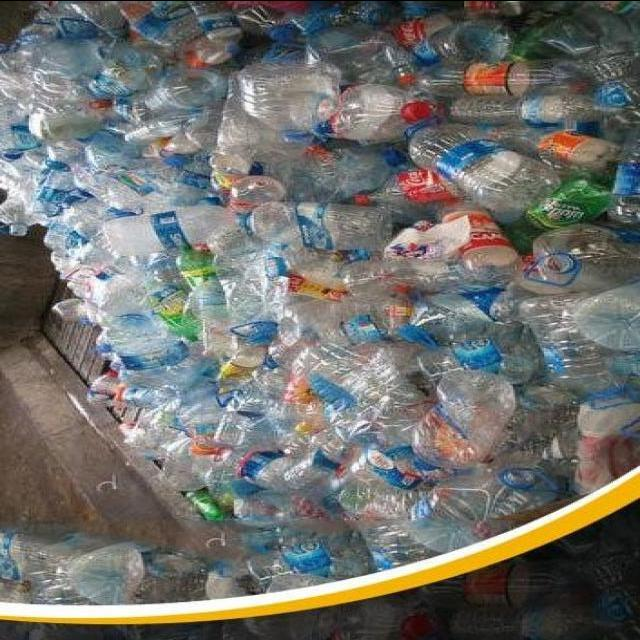寶特瓶: (398, 123, 545, 212), (520, 292, 636, 397), (411, 369, 518, 470), (342, 250, 522, 300), (236, 60, 335, 141), (397, 57, 586, 99), (474, 120, 618, 172), (403, 277, 513, 345), (415, 562, 586, 605), (513, 173, 620, 240), (102, 203, 238, 255), (278, 295, 406, 350), (240, 202, 393, 248), (531, 225, 640, 288), (246, 534, 376, 586), (412, 468, 536, 522), (439, 201, 522, 279), (326, 82, 429, 139), (214, 246, 270, 346), (576, 397, 636, 490), (452, 92, 626, 124), (541, 0, 640, 56), (322, 588, 432, 638), (92, 151, 190, 204), (72, 542, 148, 606), (579, 277, 639, 358), (304, 144, 398, 194), (215, 441, 308, 489), (352, 167, 455, 210), (146, 281, 216, 344), (1, 529, 84, 581), (400, 4, 502, 46), (158, 434, 232, 491), (451, 606, 582, 638), (405, 335, 511, 374), (146, 65, 228, 114), (406, 22, 516, 58), (566, 583, 640, 634), (93, 48, 165, 98), (605, 125, 640, 224), (341, 480, 419, 522), (120, 106, 205, 144), (26, 98, 102, 139), (282, 442, 346, 489), (234, 0, 300, 44), (188, 0, 244, 51), (218, 340, 269, 392), (30, 169, 78, 219), (221, 174, 290, 208), (70, 0, 126, 39), (174, 242, 218, 290), (42, 222, 95, 260), (182, 488, 235, 522), (84, 368, 128, 408), (0, 193, 38, 236), (94, 328, 153, 353), (49, 294, 98, 324), (120, 386, 174, 408)
